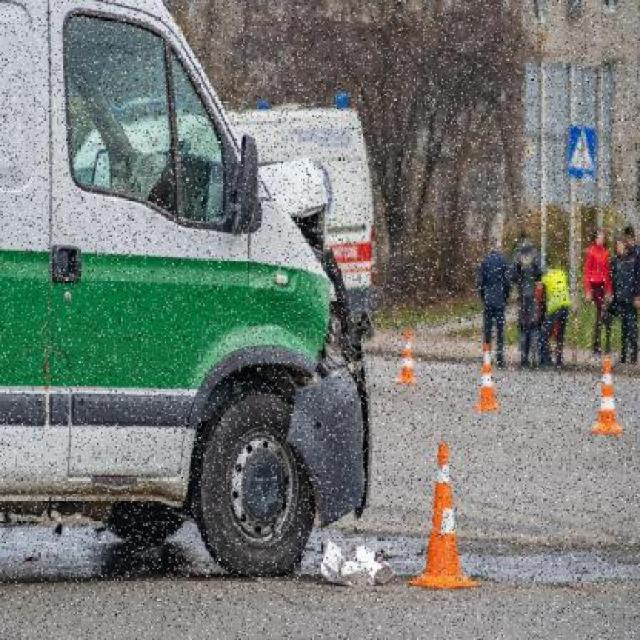front-bumper-dent: (297, 259, 389, 550)
